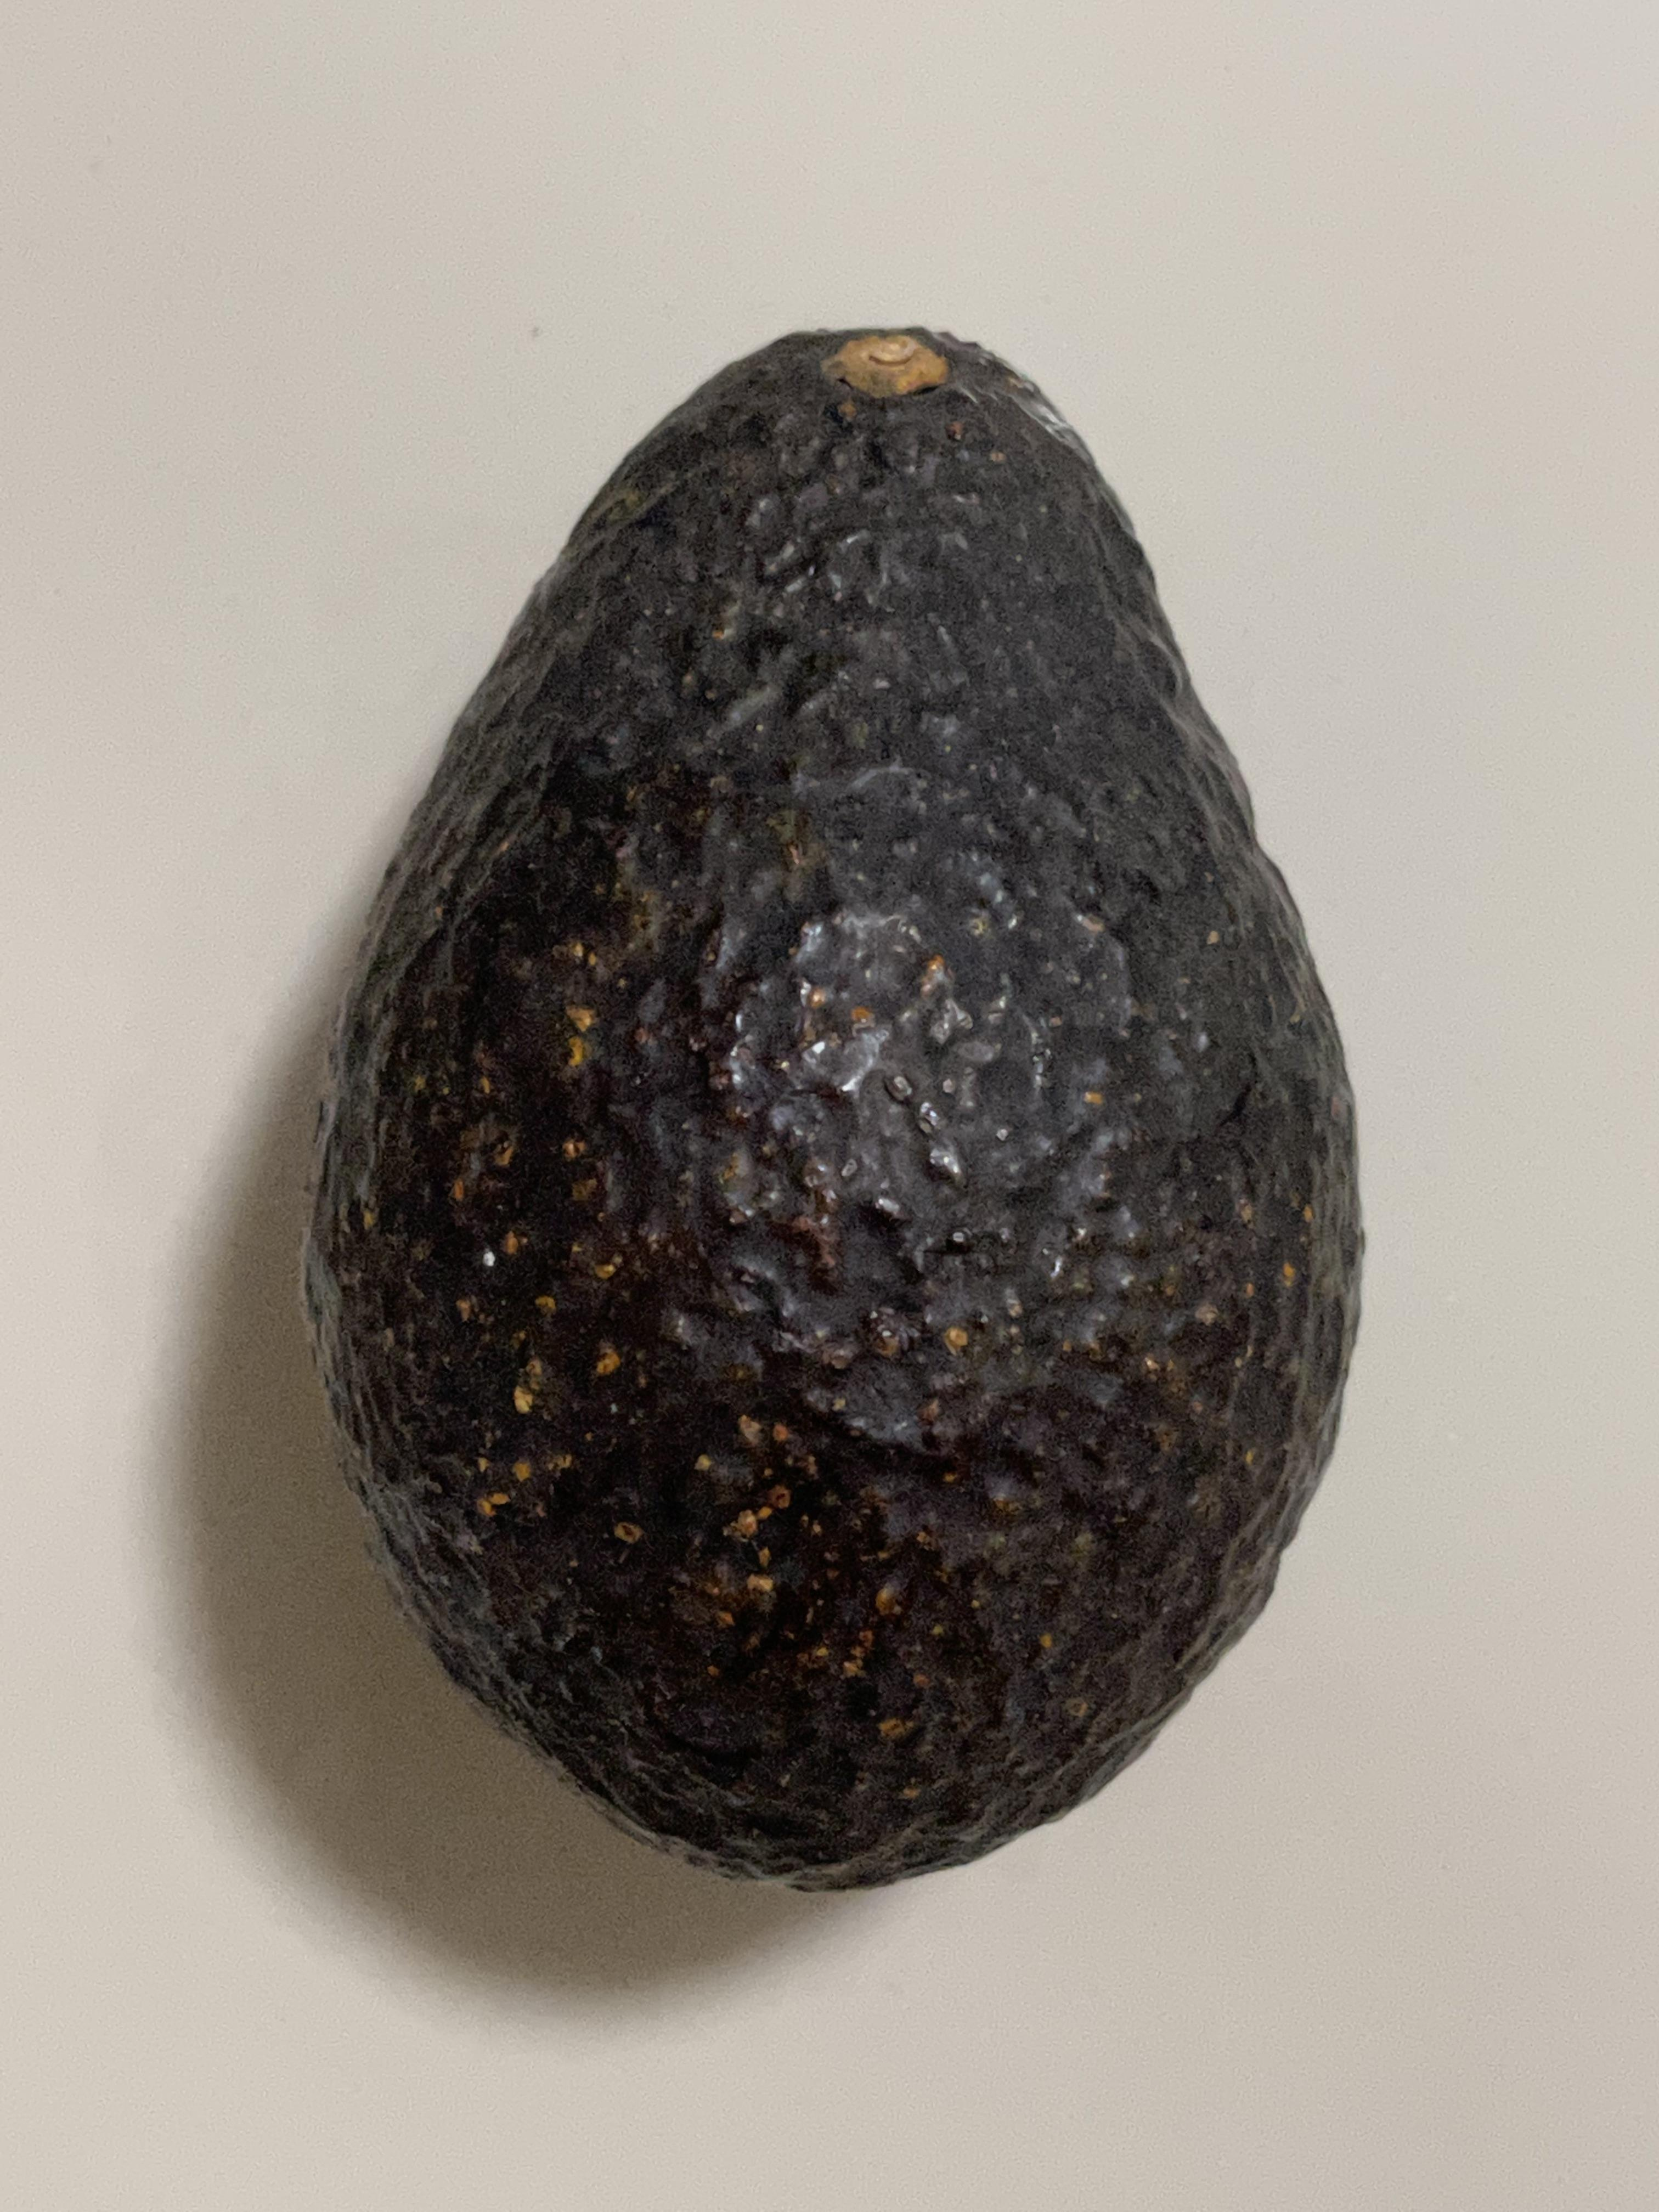Level2: (274, 314, 1391, 1905)
